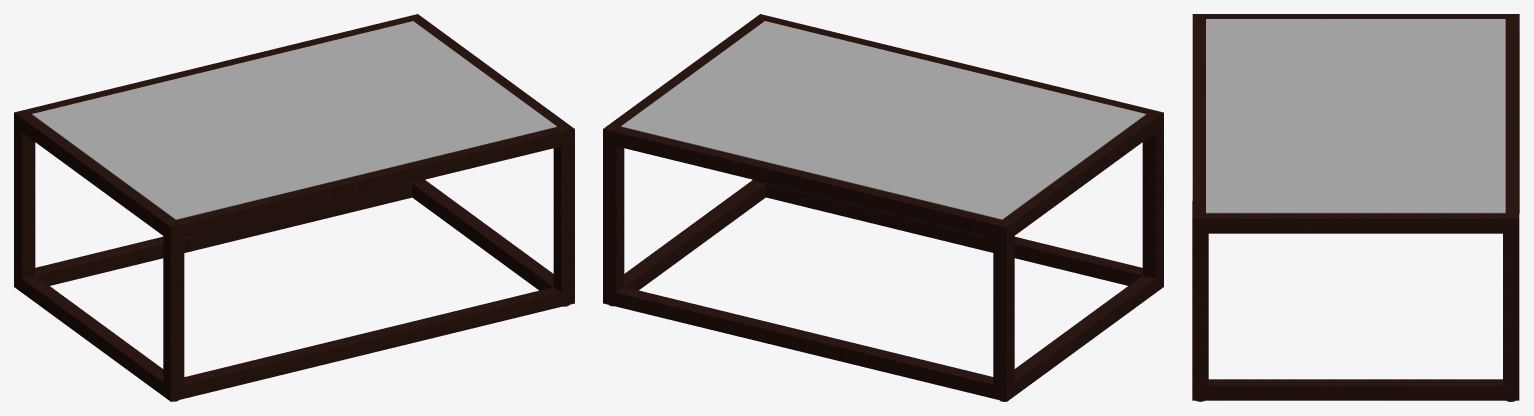
The model's file is model-gelap.glb.
The picture shows the model from 3 angles, left to right: view 1: azimuth 30°, elevation 25°; view 2: azimuth 150°, elevation 25°; view 3: azimuth 270°, elevation 25°; orthographic projection. The views are drawn at different scales.
Visible parts, largest first — view 1: C-skp8E26; view 2: C-skp8E26; view 3: C-skp8E26.
Boxes of the visible parts, x1,y1,x2,y2 form: C-skp8E26: [14, 14, 574, 401]; C-skp8E26: [603, 14, 1163, 401]; C-skp8E26: [1192, 14, 1519, 401].
Size of the model in its own units: 0.9394 by 0.3943 by 0.6332.
Materials: 3 (1 with a texture image).
